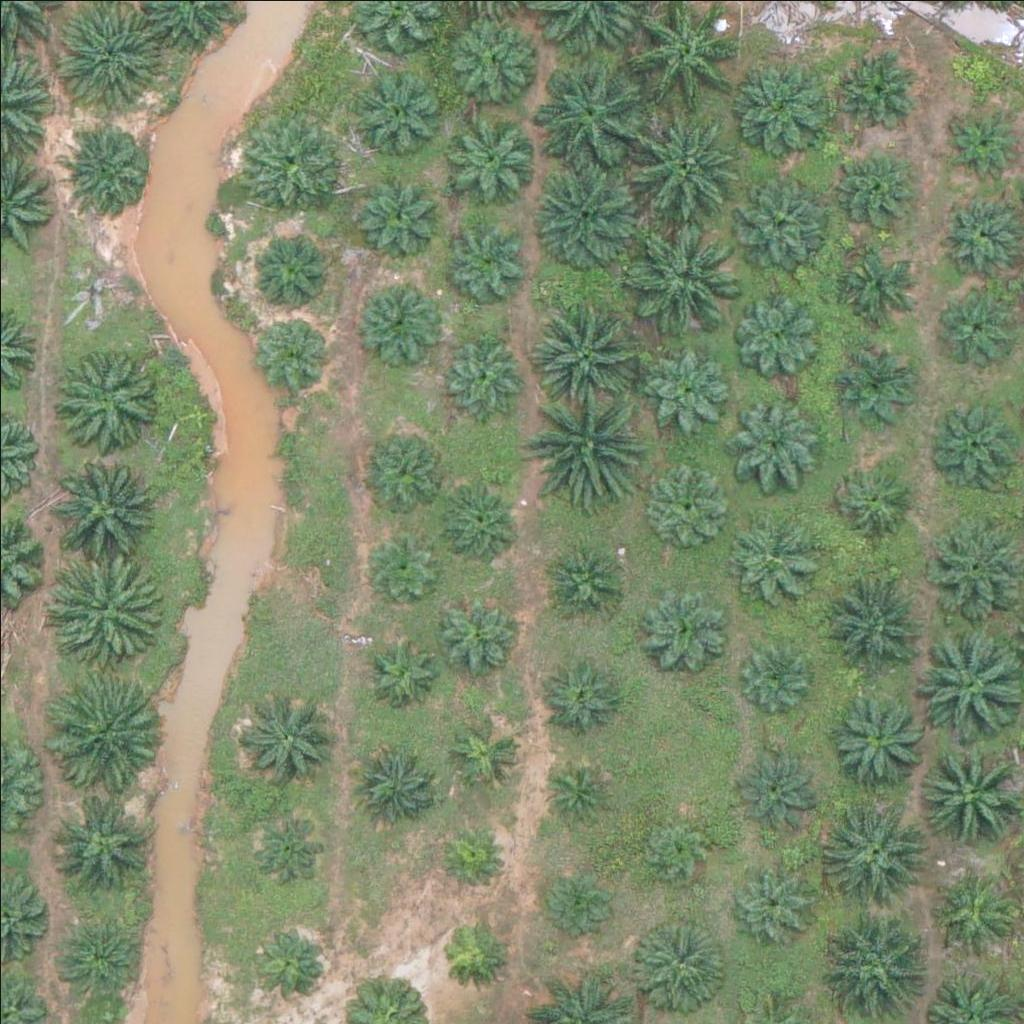Kelapa_Sawit: (46, 678, 159, 792), (535, 159, 648, 273), (50, 555, 163, 668), (528, 383, 641, 496), (531, 62, 644, 175), (823, 558, 936, 671), (44, 445, 156, 559), (909, 735, 1021, 849), (531, 290, 643, 403), (624, 105, 736, 218), (628, 217, 740, 330), (823, 907, 935, 1020), (822, 793, 934, 906), (53, 349, 153, 450), (238, 685, 338, 786), (240, 116, 340, 217), (348, 55, 448, 156), (731, 162, 831, 263), (827, 683, 927, 784), (51, 794, 151, 895), (438, 10, 538, 110), (434, 106, 534, 206), (732, 57, 832, 157), (627, 915, 727, 1015), (433, 591, 521, 680), (241, 803, 329, 892), (535, 648, 623, 736), (547, 532, 635, 620), (363, 425, 451, 513), (440, 215, 528, 303), (731, 389, 819, 477), (731, 288, 819, 376), (931, 403, 1019, 491), (832, 40, 920, 128), (830, 457, 918, 545), (641, 456, 729, 544), (925, 876, 1013, 964), (732, 743, 820, 831), (725, 861, 813, 949), (347, 739, 435, 827), (65, 128, 152, 216), (435, 477, 522, 565), (442, 329, 529, 417), (353, 272, 440, 360), (246, 226, 333, 314), (357, 177, 444, 265), (934, 278, 1021, 366), (933, 194, 1020, 282), (835, 150, 922, 238), (827, 247, 914, 335), (835, 344, 922, 432), (640, 585, 727, 673), (643, 343, 730, 431), (729, 512, 816, 600), (244, 922, 331, 1010), (57, 919, 144, 1007), (737, 634, 812, 710), (539, 863, 614, 939), (364, 524, 439, 600), (944, 109, 1019, 185), (255, 311, 330, 387), (541, 751, 616, 827), (434, 914, 509, 989), (449, 714, 524, 789), (635, 809, 710, 884), (361, 630, 436, 705), (434, 818, 509, 893)
